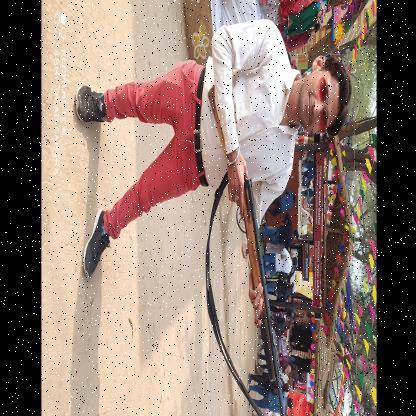rifle: (205, 82, 285, 416)
